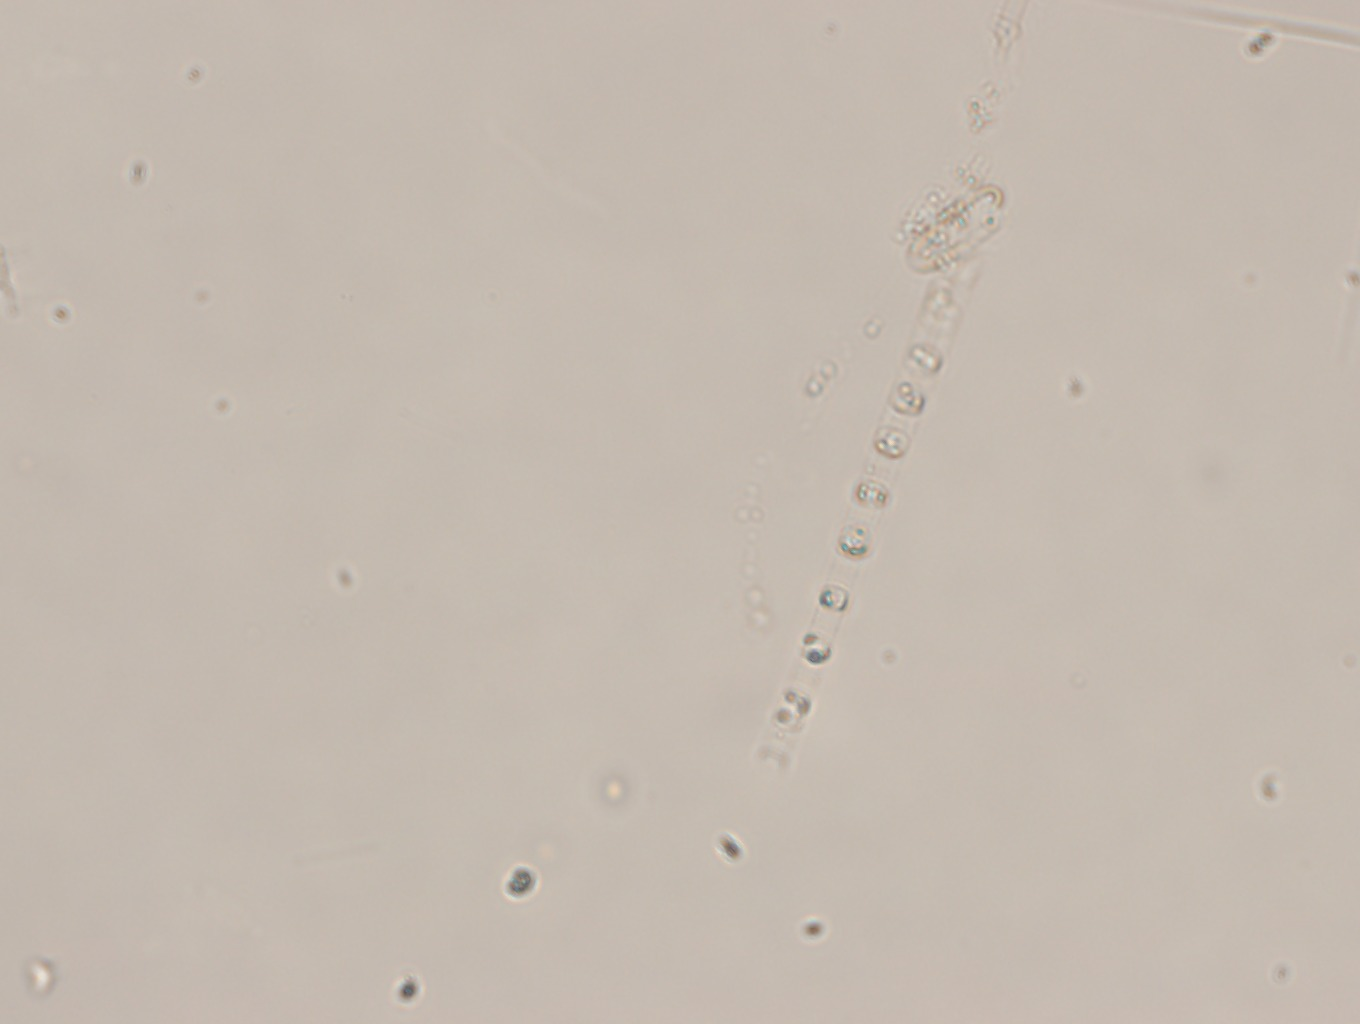skeletonema: (746, 248, 967, 806)
